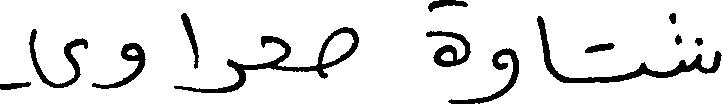X: (0, 24, 86, 94), (428, 0, 467, 103), (93, 38, 143, 93), (476, 43, 517, 103), (319, 22, 357, 83), (679, 31, 721, 78), (209, 54, 244, 97), (182, 8, 195, 96), (262, 31, 288, 75), (538, 11, 550, 78), (639, 57, 645, 80)
